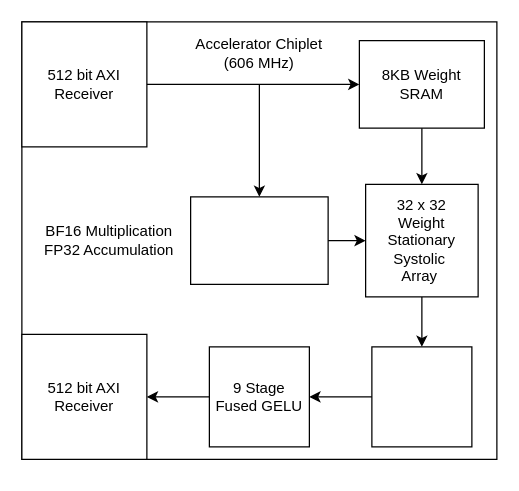
This 519x491 diagram has some shape labels left out. The shapes that lost their labels are listed below. From the top down, each one's centre as x and y in pixels, then its label:
At point (258, 240): "2KB Activation SRAM".
At point (421, 396): "32KB Accumulator SRAM".
